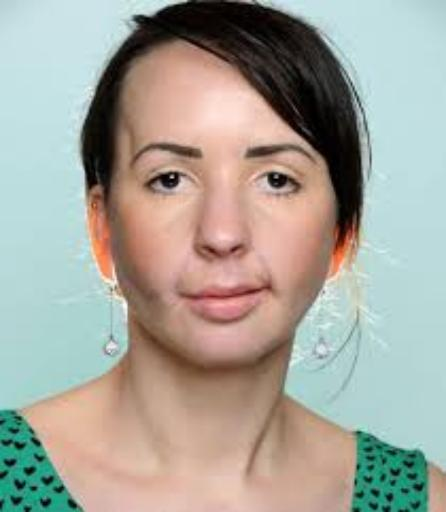left_eye: (252, 172, 306, 202)
left_lip_corner: (257, 281, 276, 303)
right_eye: (143, 171, 199, 199)
right_lip_corner: (174, 288, 196, 310)
